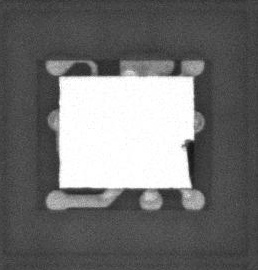DIE_BROKEN: (182, 137, 193, 187)
